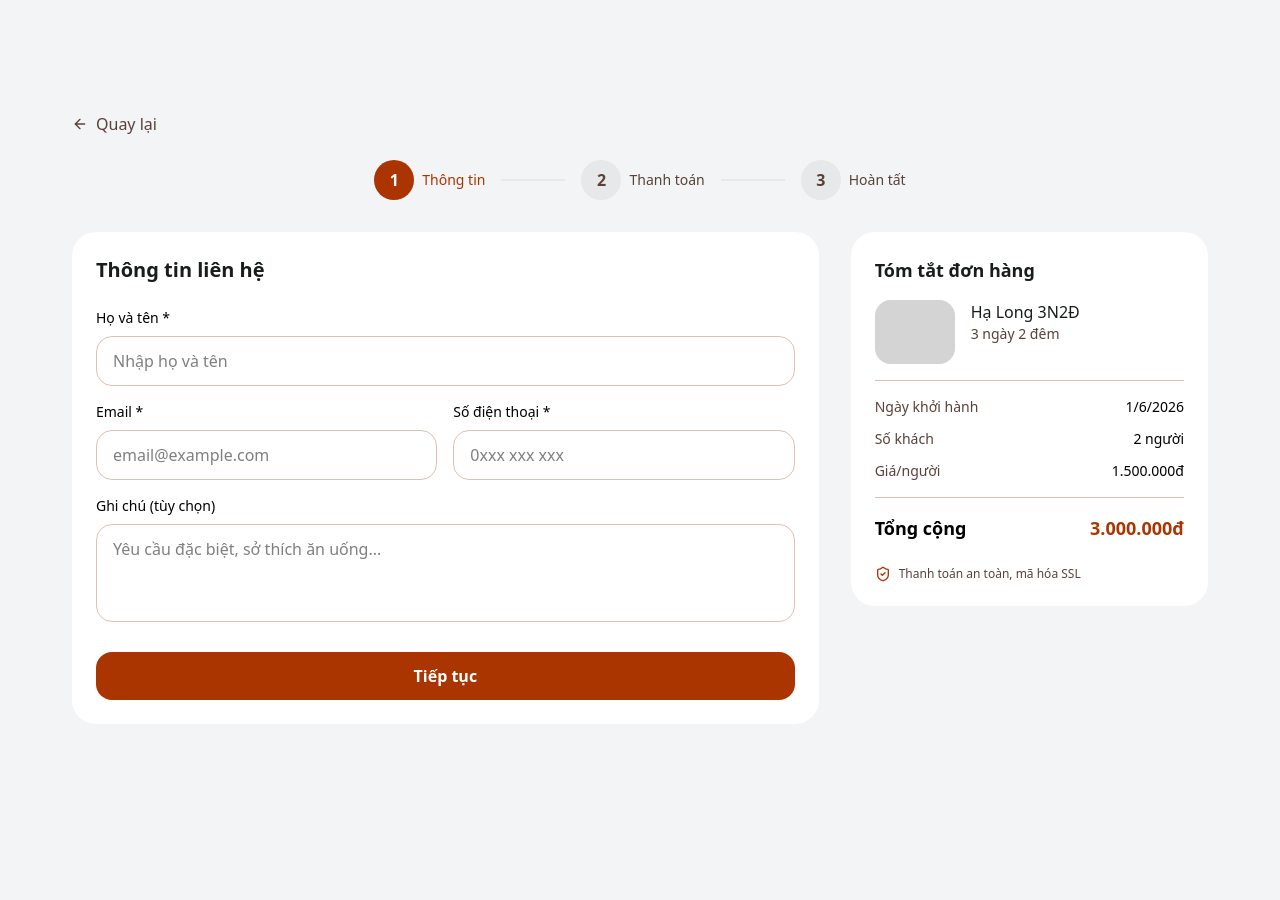
CheckoutPage › shows backend error via modal when booking fails
Step 1. Type "A" into the field with placeholder "Nhập họ và tên" → point(445, 361), box [96,336,795,386]
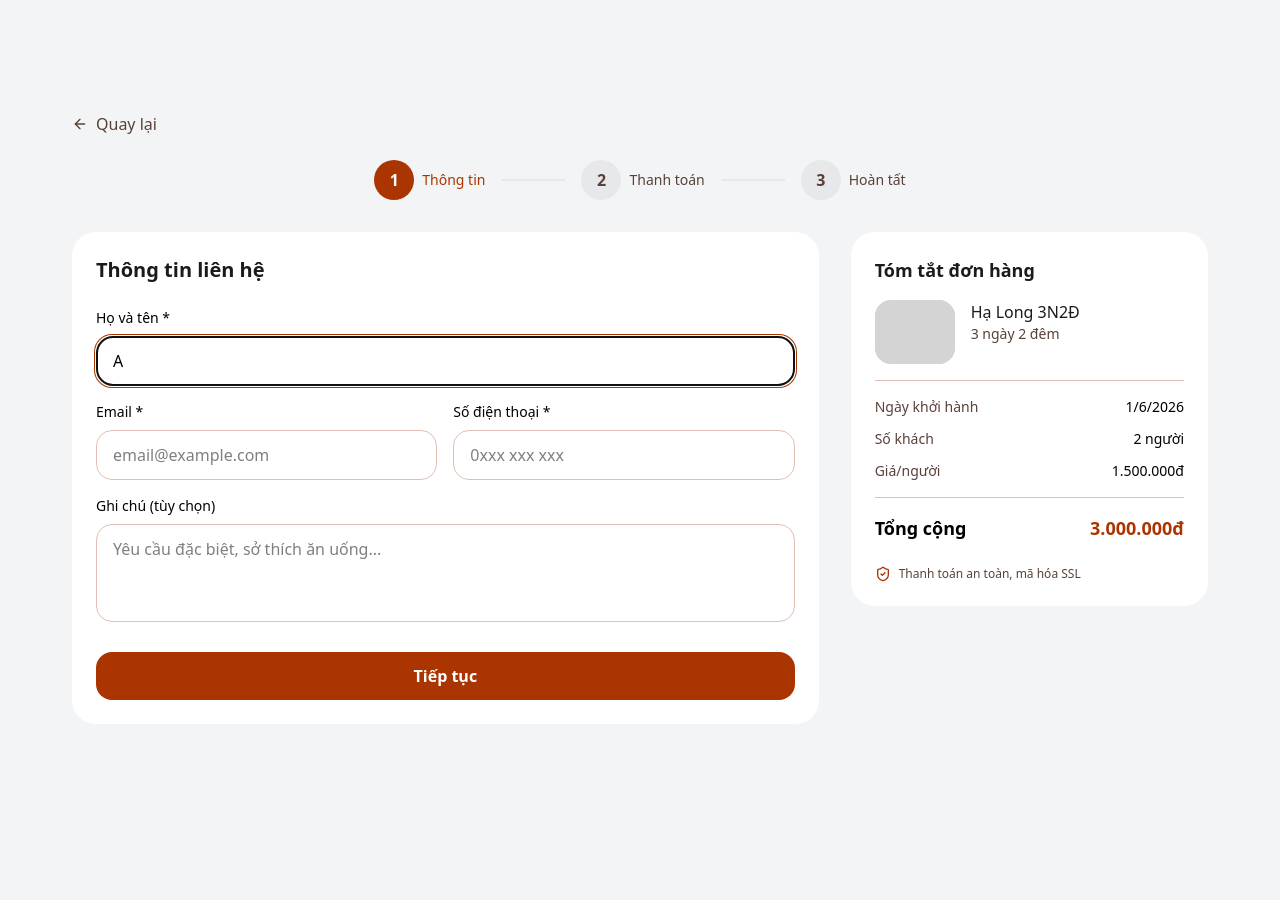
Step 2. Type "a@b.c" into the field with placeholder "email@example.com" → point(267, 455), box [96,430,437,480]
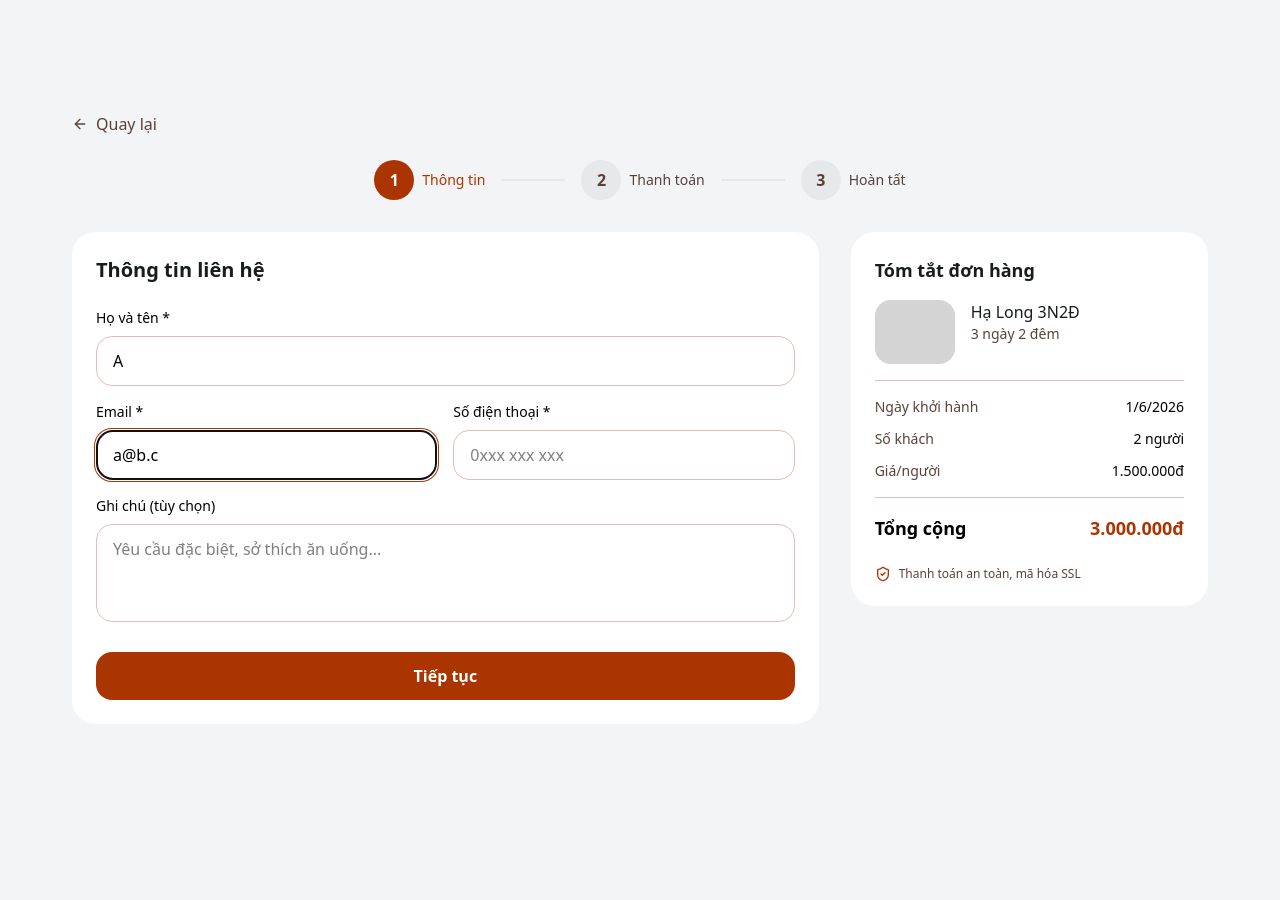
Step 3. Type "012" into the field with placeholder "0xxx xxx xxx" → point(624, 455), box [453,430,795,480]
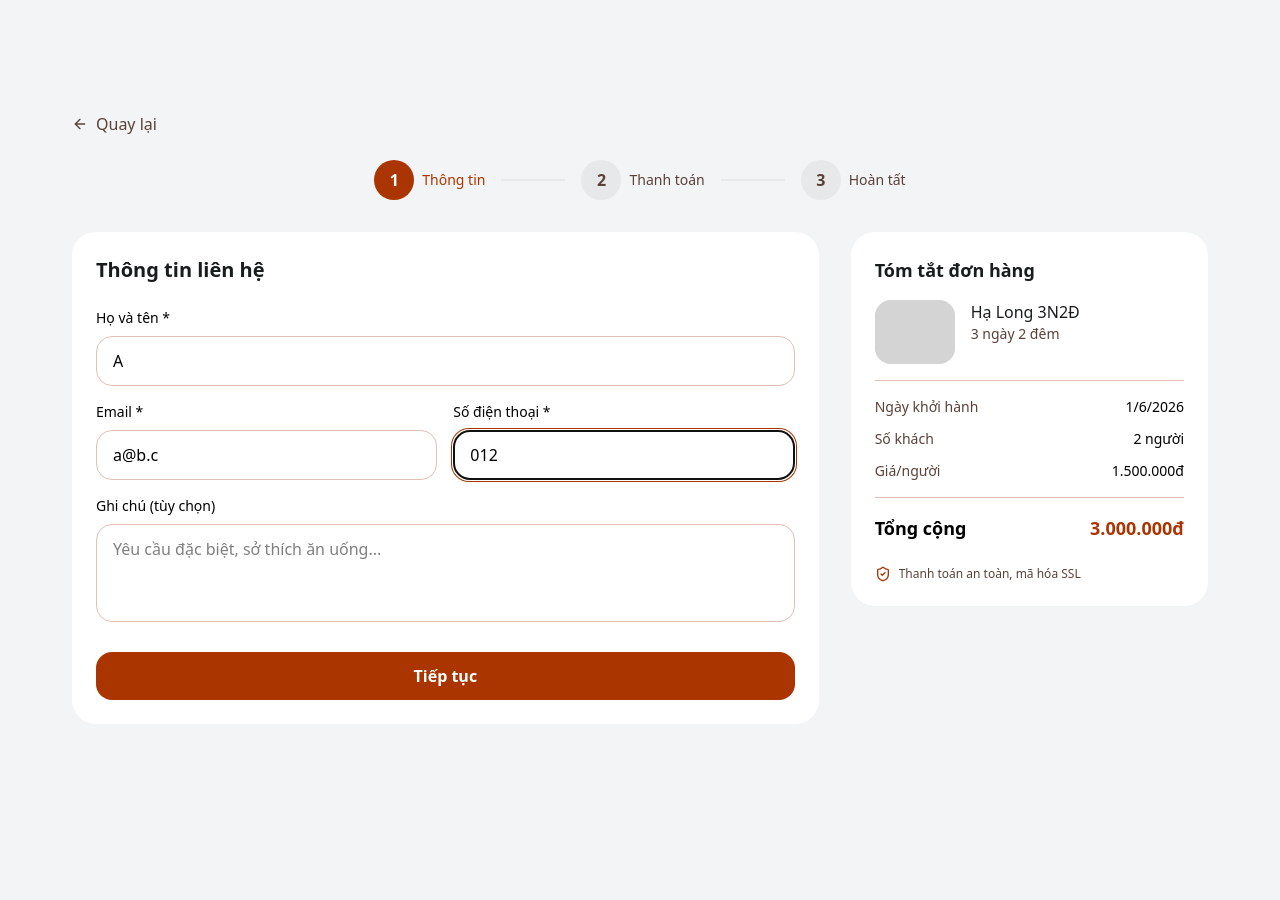
Step 4. Click the button "Tiếp tục" → point(445, 676), box [96,652,795,700]
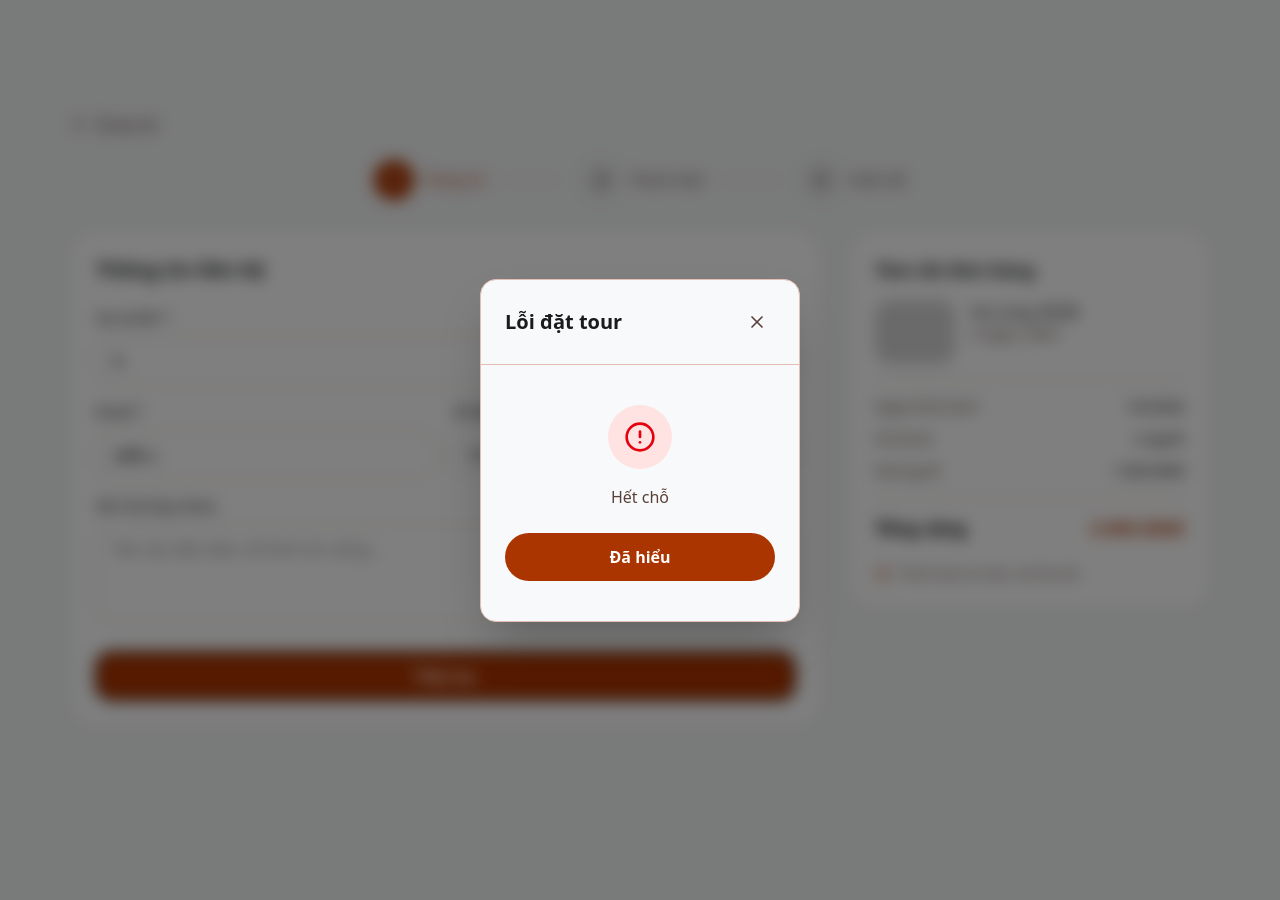
Expected: the text "Hết chỗ" is shown, [611,486,669,508]
